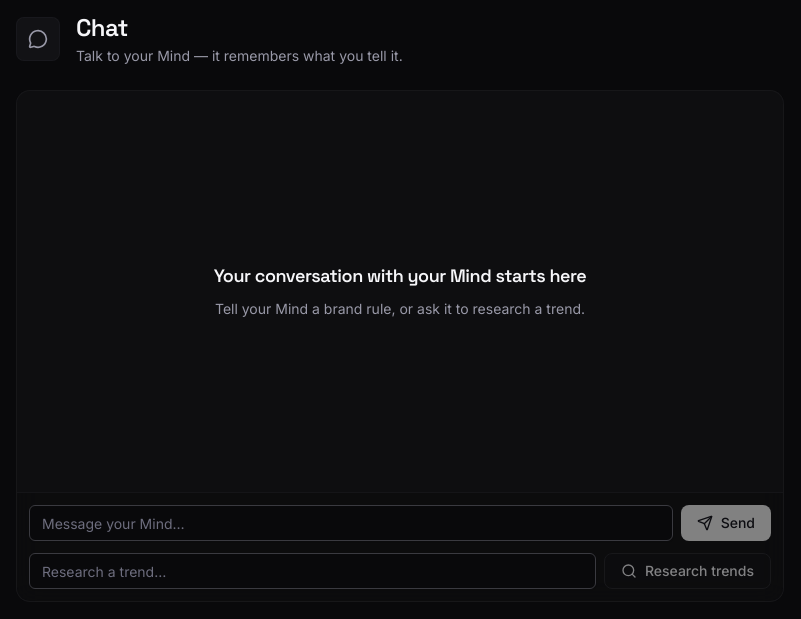
ChatPage › optimistically renders the message, then renders the reply
Expected: the text "Your conversation with your Mind starts here" is shown, [214,262,586,290]
Type "Remember: bold hooks" into the field labelled "Message your Mind…" at (351, 523), box [29,505,673,541]
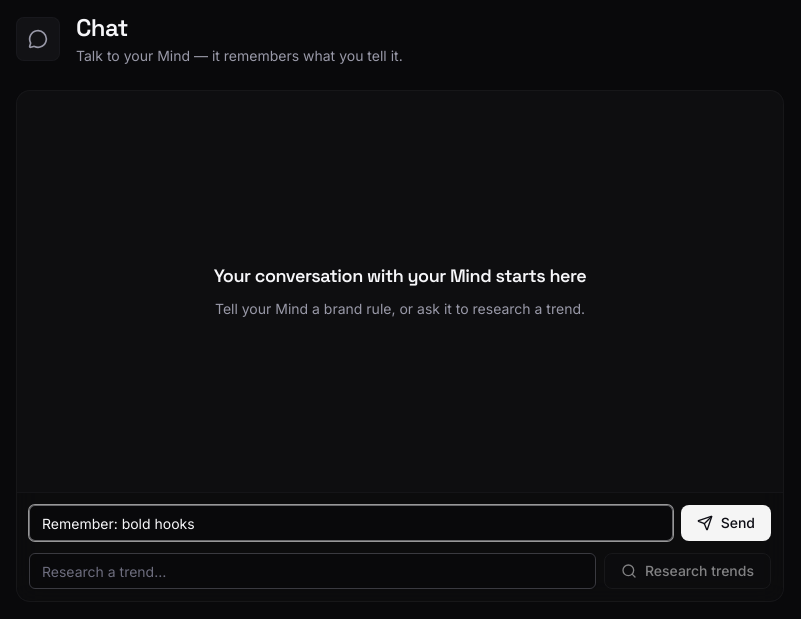
Click the button "Send" at (726, 523), box [681,505,771,541]
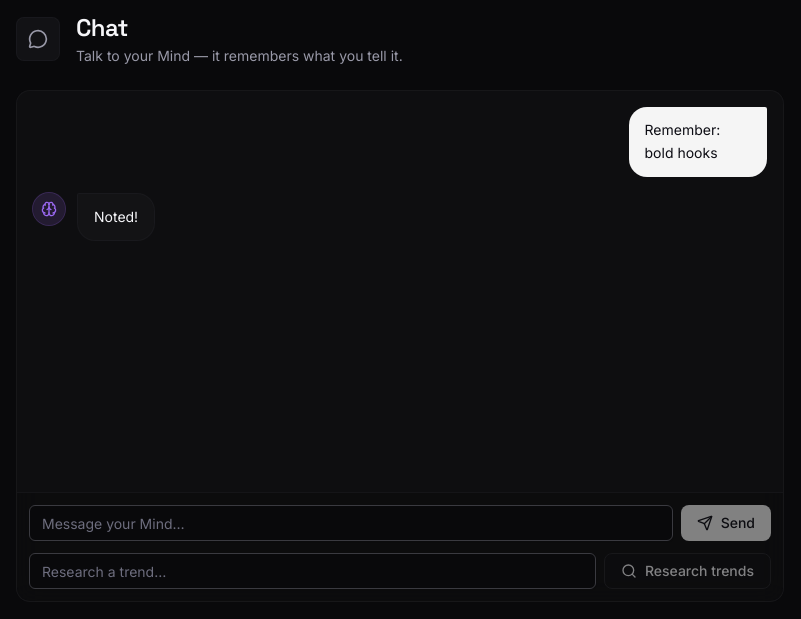
Now the text "Remember: bold hooks" is shown, box [628,107,767,176]
Now the text "Noted!" is shown, box [77,192,155,241]
